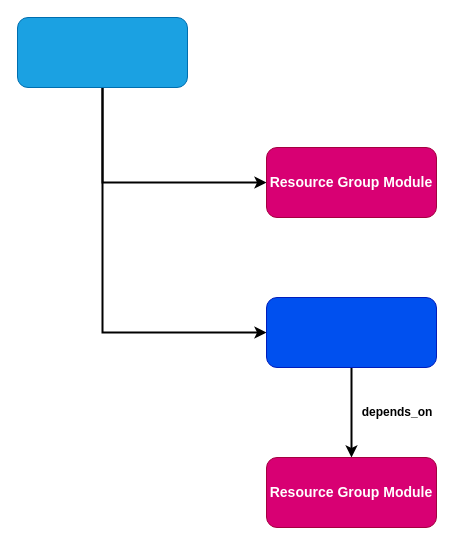
Image size: 454x545. Some labels were removed from this diagram. Each missing label, with the box of its shape:
Storage Account Module: (266, 296, 436, 368)
terraform.tfvars: (16, 16, 188, 88)
